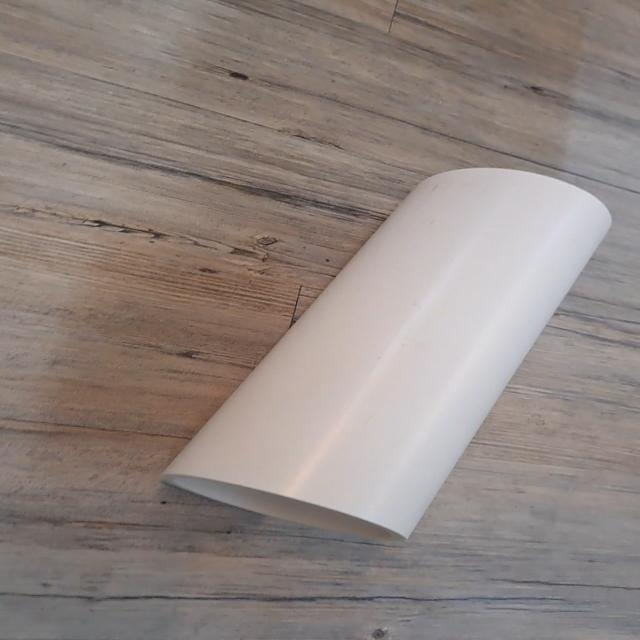CORAL: (143, 159, 618, 545)
